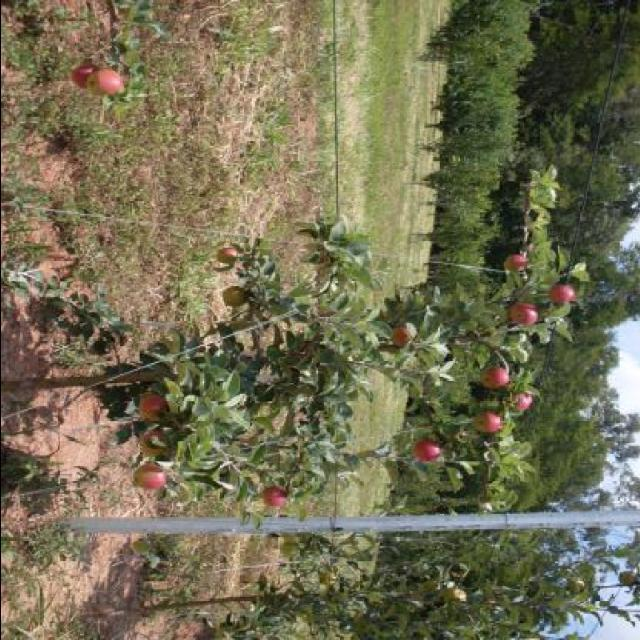Apple pie: (85, 68, 122, 96), (70, 59, 98, 92), (132, 464, 166, 490), (140, 394, 168, 423), (476, 366, 512, 388), (139, 432, 167, 458), (508, 302, 538, 324), (412, 439, 441, 461), (389, 326, 417, 348), (473, 412, 501, 432), (547, 286, 578, 304), (222, 284, 244, 307), (510, 390, 532, 412), (264, 486, 286, 508), (503, 254, 526, 272), (216, 248, 238, 264), (442, 588, 466, 602), (617, 570, 637, 586), (318, 571, 336, 587), (132, 538, 148, 554), (568, 576, 584, 592), (282, 532, 302, 544), (282, 544, 300, 556), (426, 580, 438, 592), (450, 430, 467, 438)
